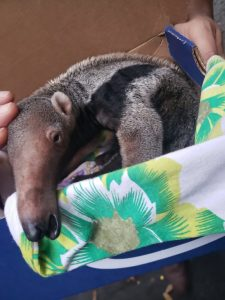TamanduaBandeira: (5, 51, 202, 246)
